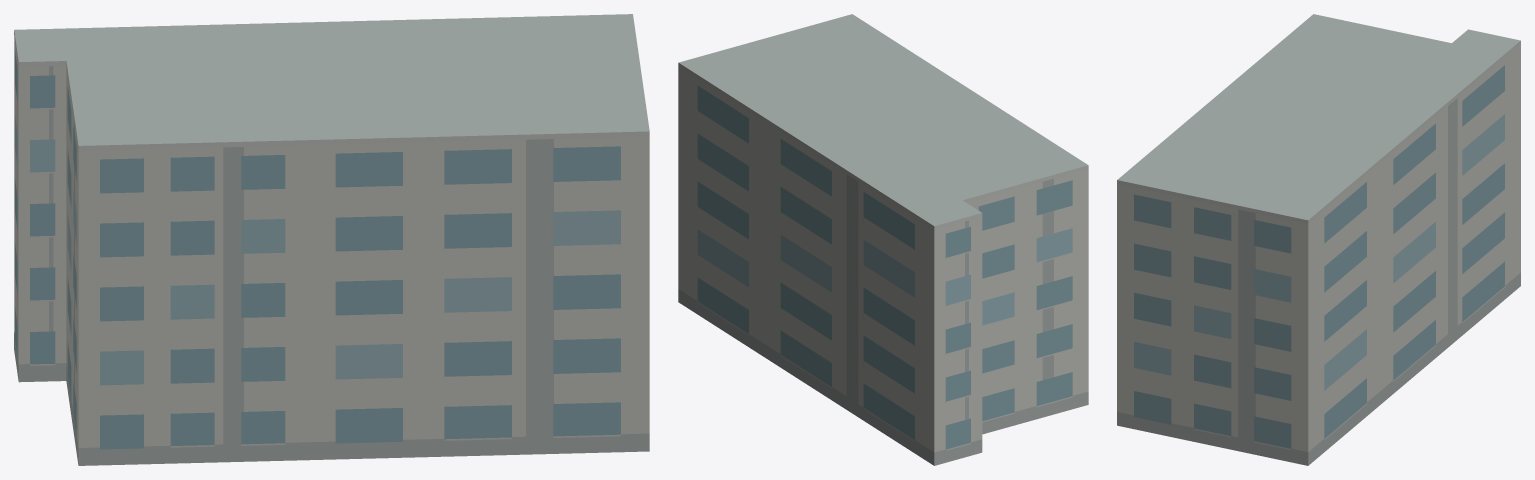
Rendered from residential-77cdb04e-8cb8-4232-82b9-7804398a68b0.glb.
3 views of the same model, side by side, from view 1: azimuth 30°, elevation 25°; view 2: azimuth 150°, elevation 25°; view 3: azimuth 270°, elevation 25° (orthographic). The views are drawn at different scales.
Parts seen in each view (by area): view 1: residential-77cdb04e-8cb8-4232-82b9-7804398a68b0.tmp; view 2: residential-77cdb04e-8cb8-4232-82b9-7804398a68b0.tmp; view 3: residential-77cdb04e-8cb8-4232-82b9-7804398a68b0.tmp.
Part boxes in pixels (bbox=[...]): residential-77cdb04e-8cb8-4232-82b9-7804398a68b0.tmp: bbox=[14, 14, 649, 465]; residential-77cdb04e-8cb8-4232-82b9-7804398a68b0.tmp: bbox=[678, 14, 1088, 465]; residential-77cdb04e-8cb8-4232-82b9-7804398a68b0.tmp: bbox=[1117, 14, 1520, 465].
Size of the model in its own units: 27.49 by 15.25 by 22.73.
